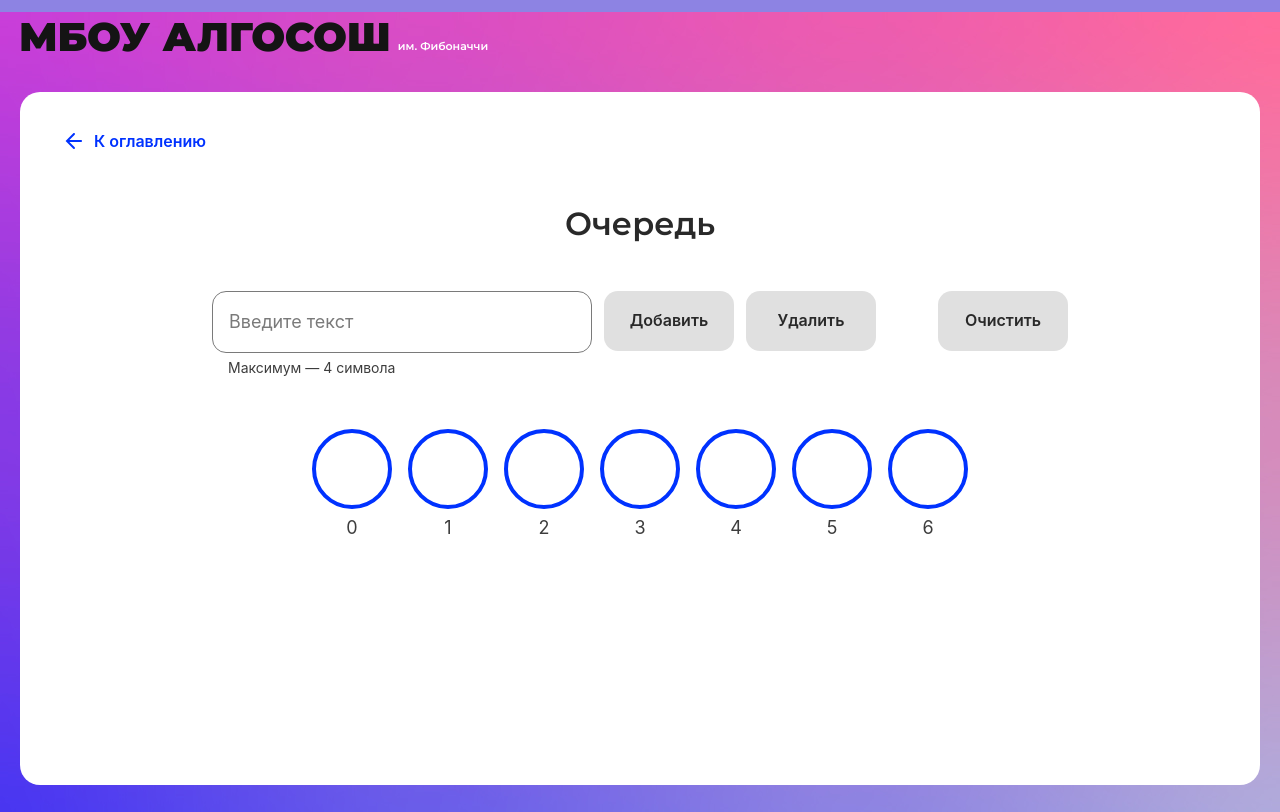
Test case: Queue page › Should clear a queue
The image size is (1280, 812).
Type "1" into the field with test id "value-input" at point(402, 322), box left=212, top=291, right=592, bottom=353
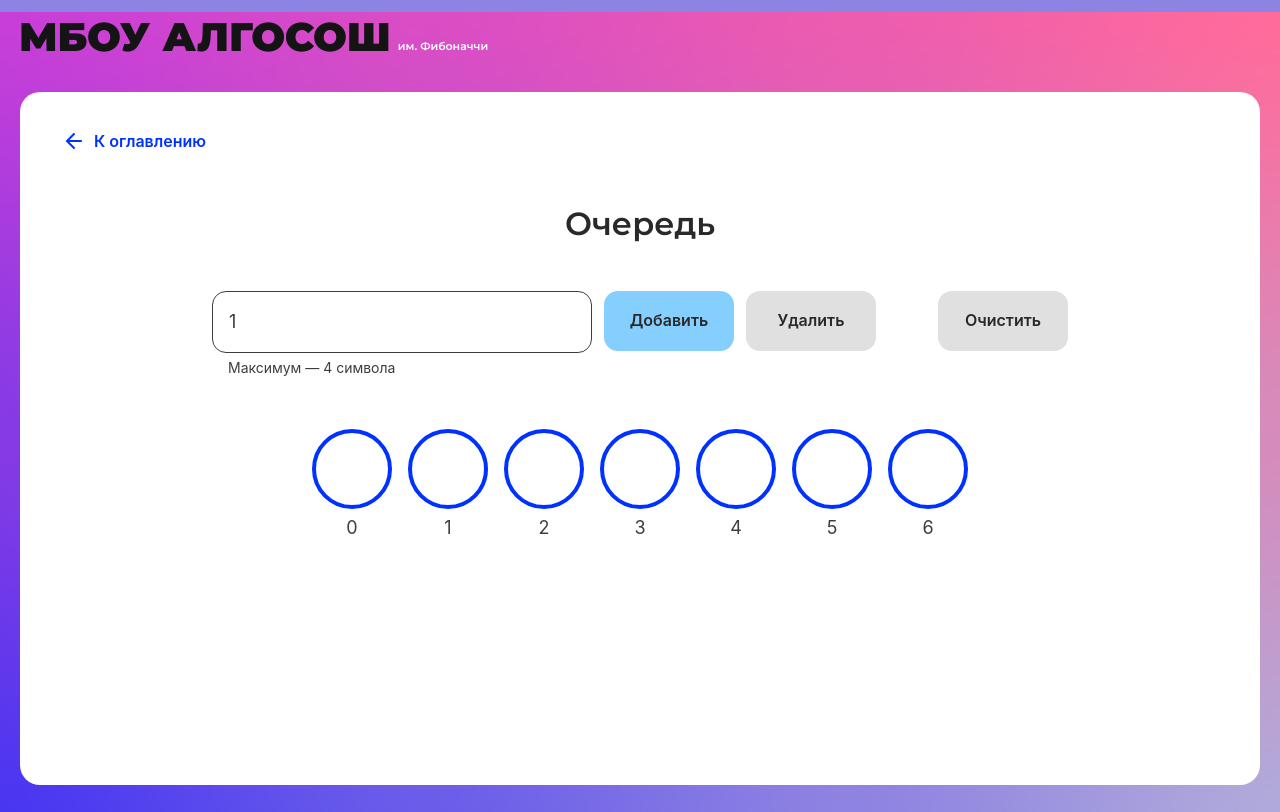
Click the button with test id "add-button" at point(669, 321), box left=604, top=291, right=734, bottom=351
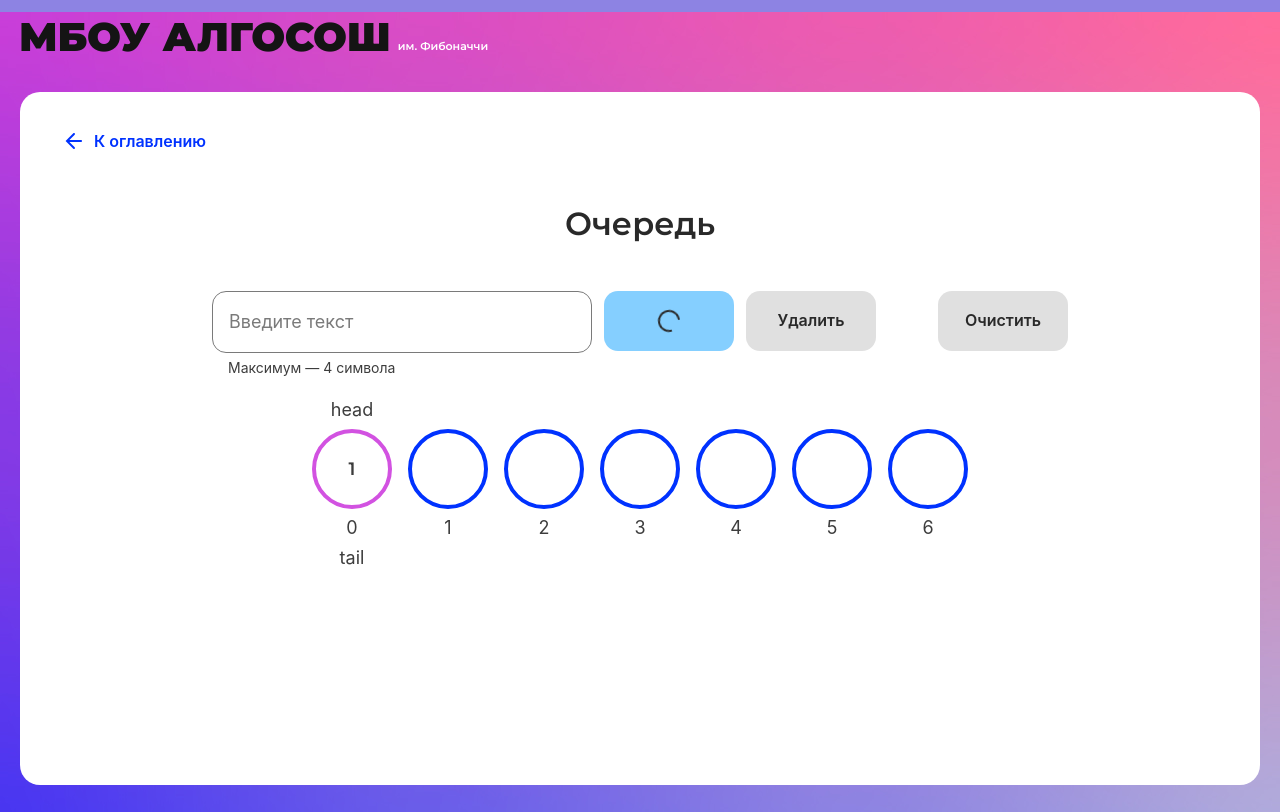
Type "2" into the field with test id "value-input" at point(402, 322), box left=212, top=291, right=592, bottom=353
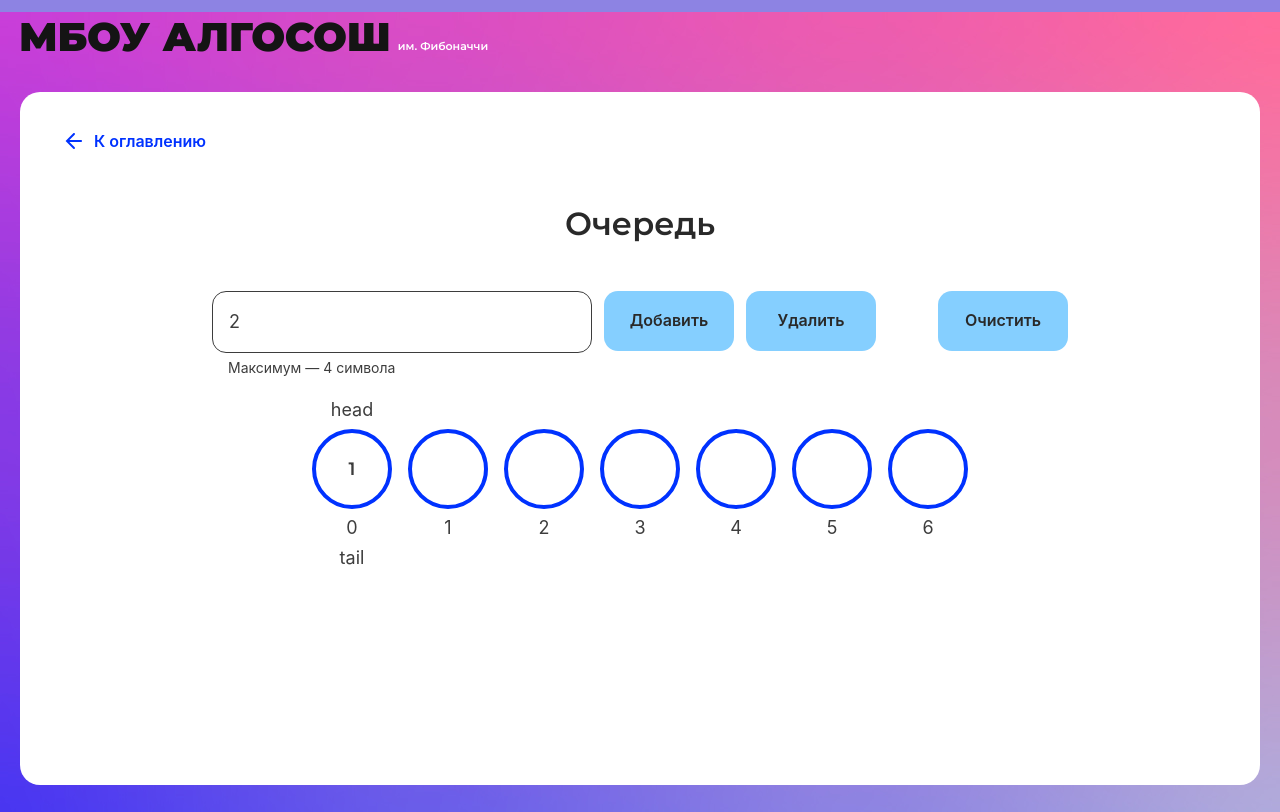
Click the button with test id "add-button" at point(669, 321), box left=604, top=291, right=734, bottom=351
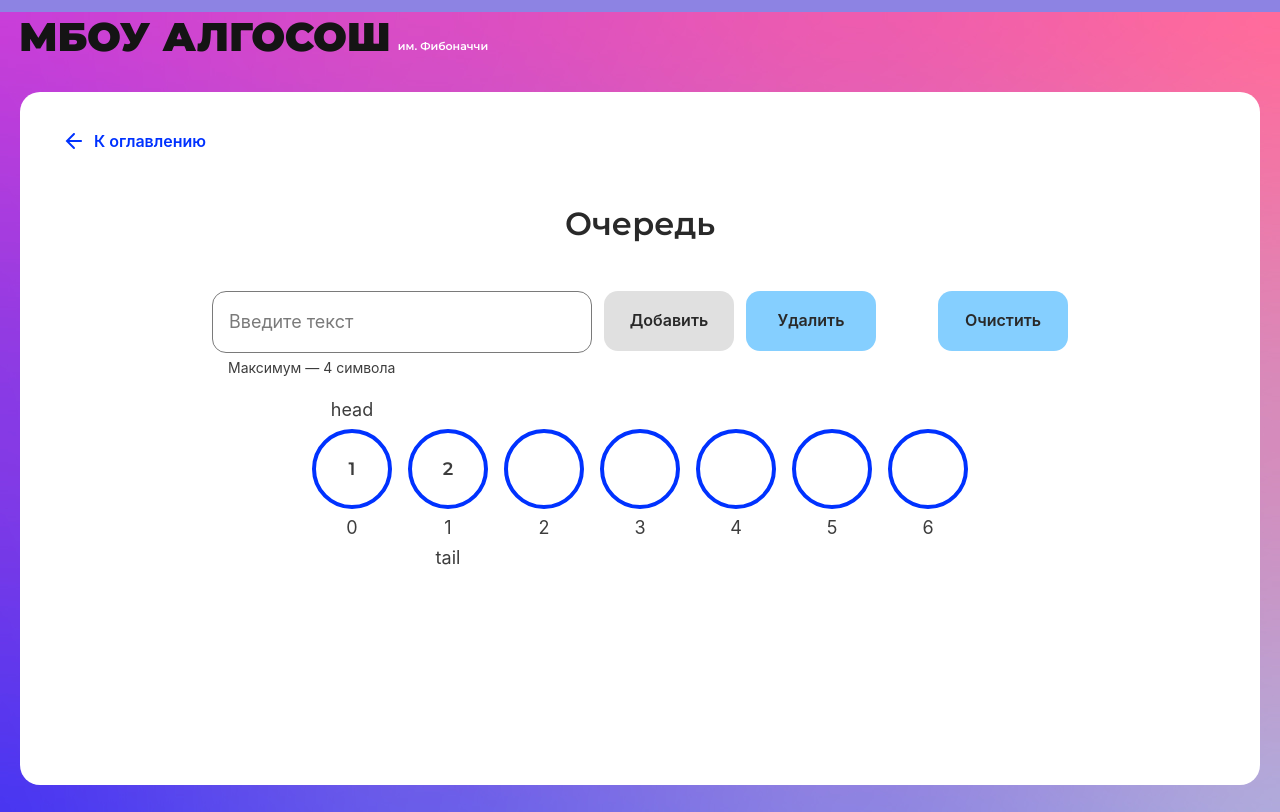
Result: the text with test id "circle-core" reads "1" at left=349, top=458, right=356, bottom=480
Result: the text with test id "circle-core" reads "2" at left=443, top=458, right=453, bottom=480
Click the button with test id "clear-button" at point(1003, 321), box left=938, top=291, right=1068, bottom=351
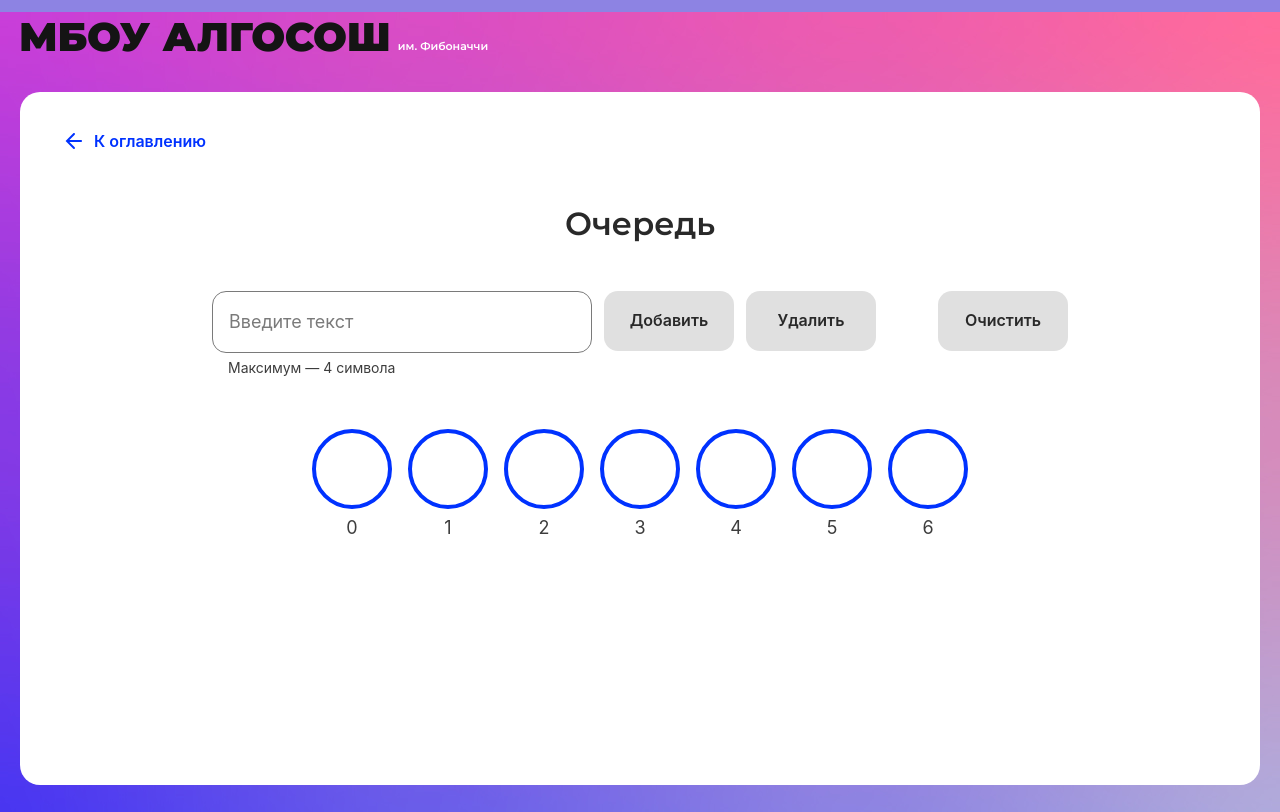
Result: the button with test id "delete-button" is disabled at left=746, top=291, right=876, bottom=351
Result: the button with test id "clear-button" is disabled at left=938, top=291, right=1068, bottom=351
